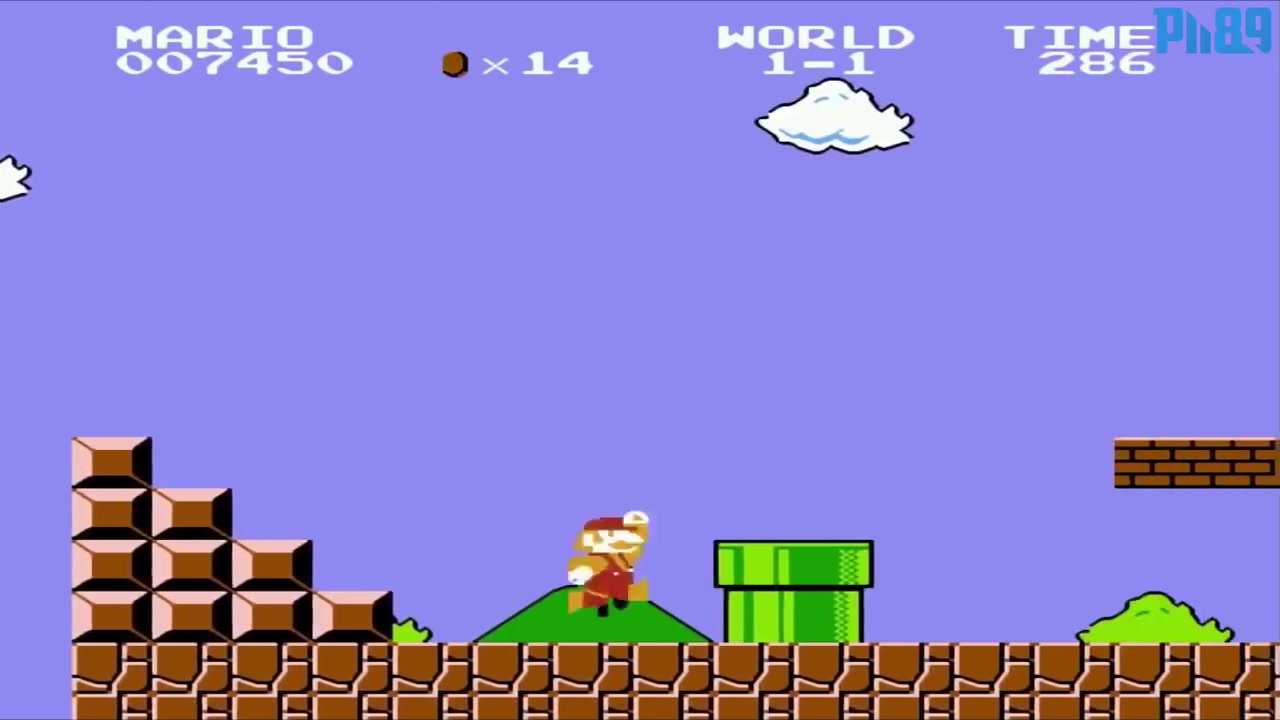mario: (567, 506, 658, 611)
